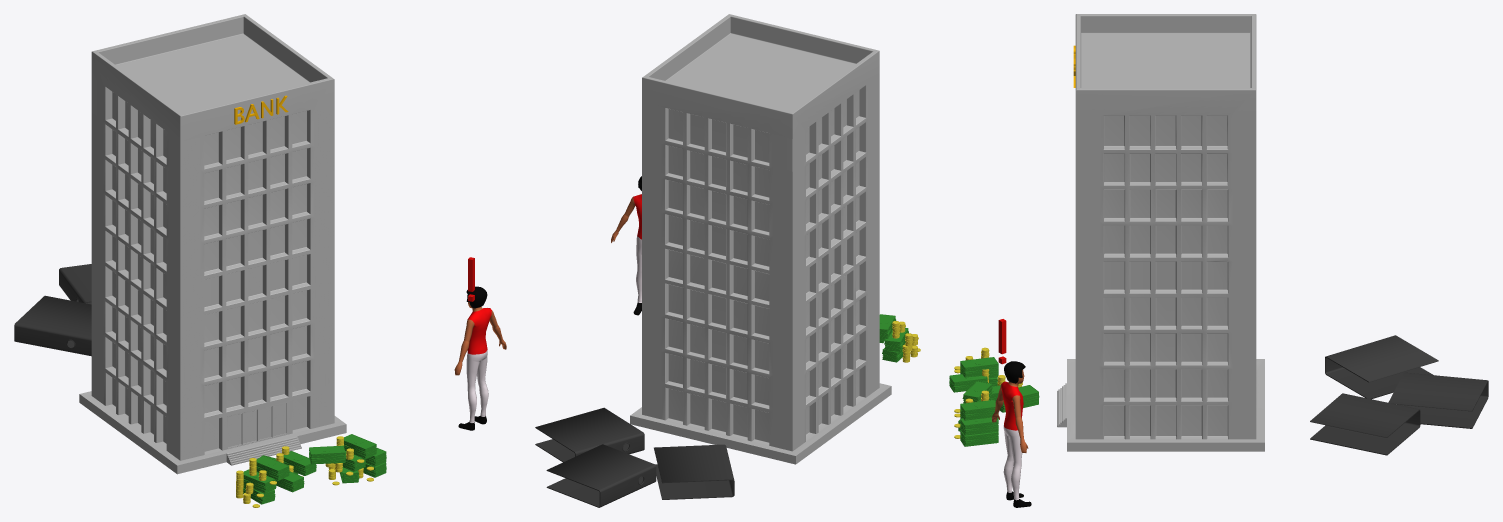
The picture shows the model from 3 angles, left to right: view 1: azimuth 30°, elevation 25°; view 2: azimuth 150°, elevation 25°; view 3: azimuth 270°, elevation 25°; orthographic projection. The views are drawn at different scales.
Parts seen in each view (by area): view 1: bank, low_poly__0.001, corpo.001, low_poly, Money_0.010, Money_0.007, Money_0.013, Money_0.004, Money_0.012; view 2: bank, low_poly, low_poly__0.001, low_poly__0.002, corpo.001, Money_0.010, Money_0.004, Money_0; view 3: bank, low_poly__0.002, low_poly__0.001, low_poly, corpo.001, Money_0.010, Money_0.007, Money_0.009.
Part boxes in pixels (<box>): bank: <box>79,14,346,474</box>; low_poly__0.001: <box>14,295,91,356</box>; corpo.001: <box>454,302,506,430</box>; low_poly: <box>59,264,91,304</box>; Money_0.010: <box>249,456,289,484</box>; Money_0.007: <box>336,434,376,462</box>; Money_0.013: <box>282,445,345,464</box>; Money_0.004: <box>236,469,276,497</box>; Money_0.012: <box>276,451,316,476</box>; bank: <box>630,14,891,464</box>; low_poly: <box>546,444,656,507</box>; low_poly__0.001: <box>654,444,734,499</box>; low_poly__0.002: <box>535,407,644,462</box>; corpo.001: <box>611,194,641,315</box>; Money_0.010: <box>879,314,905,339</box>; Money_0.004: <box>884,327,918,351</box>; Money_0: <box>882,344,920,362</box>; bank: <box>1057,14,1264,451</box>; low_poly__0.002: <box>1310,393,1420,455</box>; low_poly__0.001: <box>1325,335,1438,399</box>; low_poly: <box>1388,372,1488,428</box>; corpo.001: <box>992,370,1031,507</box>; Money_0.010: <box>954,347,998,377</box>; Money_0.007: <box>954,390,998,420</box>; Money_0.009: <box>954,417,998,435</box>.
Size of the model in its own units: 3.82 by 4.19 by 5.7.
